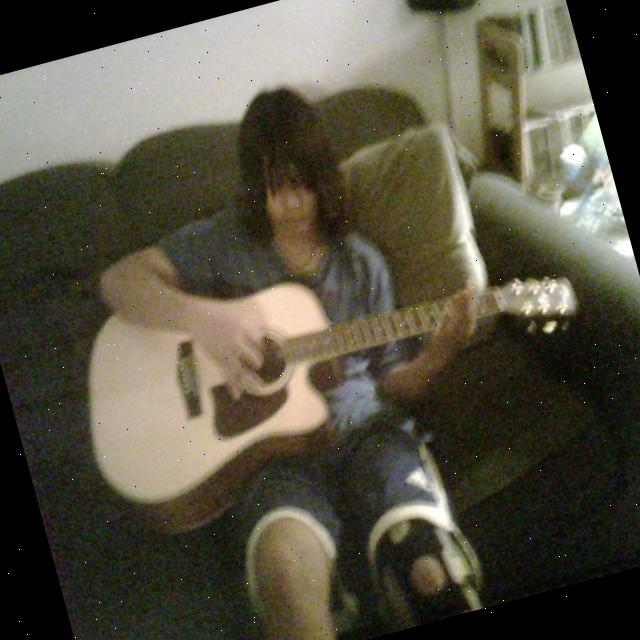guitar: (51, 184, 614, 556)
